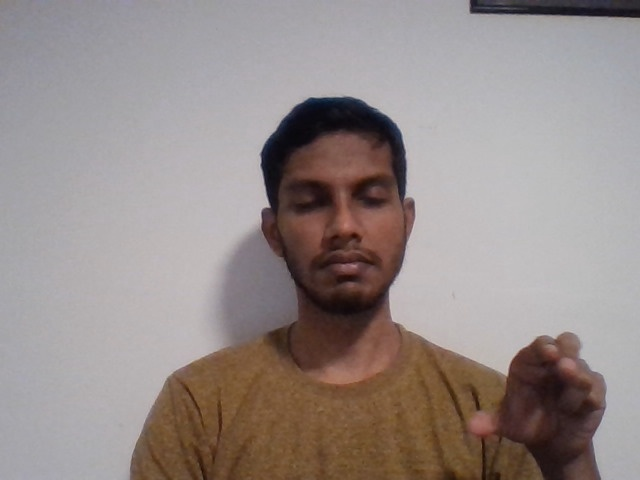no: (454, 308, 624, 465)
